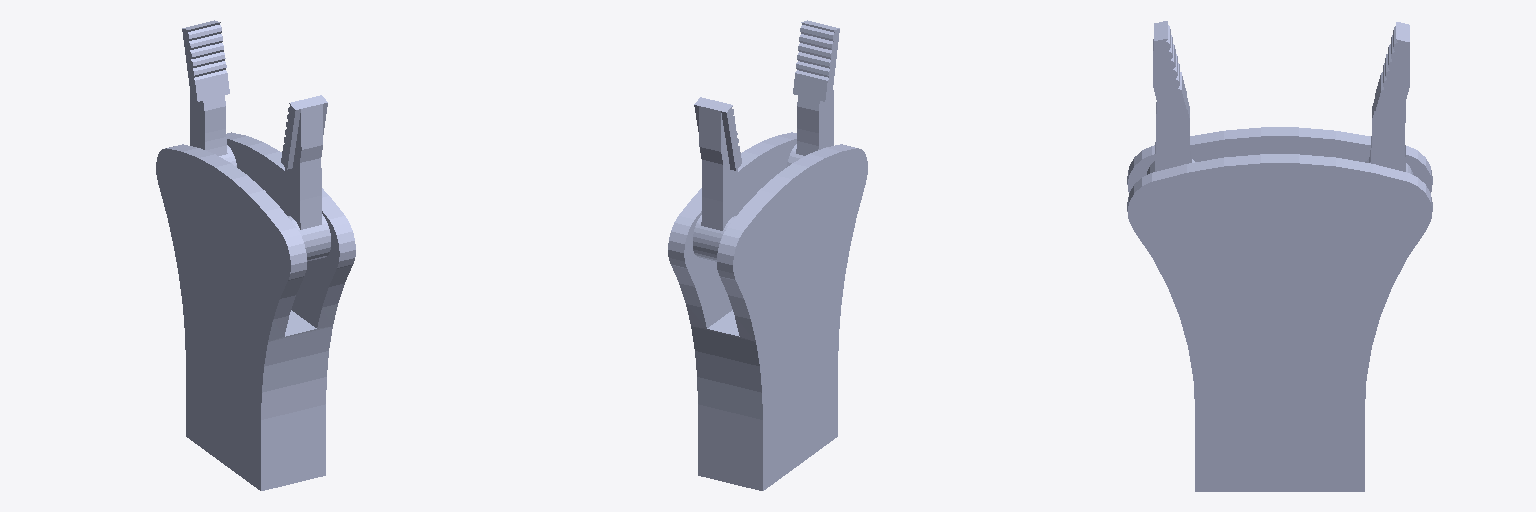
robot.urdf — jiazhua:
<?xml version="1.0" encoding="utf-8"?>
<robot name="jiazhua">

  <link name="gripper_base_link">
    <inertial>
      <origin xyz="0.0012 2.42861286636753E-17 0.0475830266682981" rpy="0 0 0" />
      <mass value="0.10588615547803" />
      <inertia
        ixx="0.000120405813410356"
        ixy="-3.77401154477319E-21"
        ixz="3.59933442415666E-21"
        iyy="9.48339427252608E-05"
        iyz="-1.11428968367808E-20"
        izz="3.86432252264647E-05" />
    </inertial>
    <visual>
      <origin xyz="0 0 0" rpy="0 0 0" />
      <geometry>
        <mesh filename="package://aubo_description/meshes/jiazhua/base_link.STL" />
      </geometry>
      <material name="jiazhua_bask_link_material">
        <color rgba="0.792156862745098 0.819607843137255 0.933333333333333 1" />
      </material>
    </visual>
    <collision>
      <origin  xyz="0 0 0" rpy="0 0 0" />
      <geometry>
        <mesh filename="package://aubo_description/meshes/jiazhua/base_link.STL" />
      </geometry>
    </collision>
  </link>
  <link  name="Link1">
    <inertial>
      <origin xyz="0.00188050176688574 -0.00120387769826689 0.0150298969423478" rpy="0 0 0" />
      <mass value="0.0054287821000724" />
      <inertia
        ixx="1.43577242109414E-06"
        ixy="9.68992808778747E-11"
        ixz="-2.28401464592307E-07"
        iyy="1.47943037043788E-06"
        iyz="4.56593730463517E-10"
        izz="1.48811775578354E-07" />
    </inertial>
    <visual>
      <origin xyz="0 0 0" rpy="0 0 0" />
      <geometry>
        <mesh filename="package://aubo_description/meshes/jiazhua/Link1.STL" />
      </geometry>
      <material name="link1_material">
        <color rgba="0.792156862745098 0.819607843137255 0.933333333333333 1" />
      </material>
    </visual>
    <collision>
      <origin xyz="0 0 0" rpy="0 0 0" />
      <geometry>
        <mesh filename="package://aubo_description/meshes/jiazhua/Link1.STL" />
      </geometry>
    </collision>
  </link>
  <!--
    The two fingers rotate about their local Y axes.  Because the finger joint
    frames have opposite yaw angles, equal positive joint commands produce a
    symmetric closing motion.
  -->
  <joint name="joint1" type="revolute">
    <origin xyz="0 -0.029 0.0892076231496363" rpy="0 -0.228448582107719 1.5707963267949" />
    <parent  link="gripper_base_link" />
    <child link="Link1" />
    <axis xyz="0 1 0" />
    <limit lower="0.0" upper="0.55" effort="20.0" velocity="1.0" />
    <dynamics damping="0.15" friction="0.05" />
  </joint>
  <link name="Link2">
    <inertial>
      <origin xyz="0.00184644766642264 0.00119612230173309 0.0148207361975697" rpy="0 0 0" />
      <mass  value="0.00542878210007239" />
      <inertia
        ixx="1.43577242109413E-06"
        ixy="9.68992808778728E-11"
        ixz="-2.28401464592308E-07"
        iyy="1.47943037043787E-06"
        iyz="4.56593730463535E-10"
        izz="1.48811775578354E-07" />
    </inertial>
    <visual>
      <origin xyz="0 0 0" rpy="0 0 0" />
      <geometry>
        <mesh filename="package://aubo_description/meshes/jiazhua/Link2.STL" />
      </geometry>
      <material name="link2_material">
        <color rgba="0.792156862745098 0.819607843137255 0.933333333333333 1" />
      </material>
    </visual>
    <collision>
      <origin xyz="0 0 0" rpy="0 0 0" />
      <geometry>
        <mesh filename="package://aubo_description/meshes/jiazhua/Link2.STL" />
      </geometry>
    </collision>
  </link>
  <joint name="joint2" type="revolute">
    <origin xyz="0 0.029 0.0892076231496363" rpy="0 -0.252554771757915 -1.5707963267949" />
    <parent link="gripper_base_link" />
    <child link="Link2" />
    <axis xyz="0 1 0" />
    <limit lower="0.0" upper="0.55" effort="20.0" velocity="1.0" />
    <dynamics damping="0.15" friction="0.05" />
  </joint>

  <joint name="gripper_joint" type="fixed">
      <origin xyz="0 0 0.12" rpy="0 0 0"/>
      <parent link="gripper_base_link"/>
      <child link="gripper_link"/>
  </joint>
  <link name="gripper_link" />

  <!-- Tool centre point between and slightly in front of the fingertips.
       Keep gripper_link for compatibility and use tcp_link as the MoveIt tip. -->
  <joint name="tcp_joint" type="fixed">
      <!-- Keep the TCP inside the useful finger contact band.  The previous
           extra 25 mm offset put the fingertips on only the top edge of a
           40 mm sorting block when the TCP was commanded to its centre. -->
      <origin xyz="0 0 0" rpy="0 0 0"/>
      <parent link="gripper_link"/>
      <child link="tcp_link"/>
  </joint>
  <link name="tcp_link" />

  <!-- Contact parameters for grasping lightweight objects in Gazebo. -->
  <gazebo reference="Link1">
    <mu1>20.0</mu1>
    <mu2>20.0</mu2>
    <kp>1000000</kp>
    <kd>100</kd>
    <minDepth>0.002</minDepth>
    <maxVel>0.01</maxVel>
  </gazebo>
  <gazebo reference="Link2">
    <mu1>20.0</mu1>
    <mu2>20.0</mu2>
    <kp>1000000</kp>
    <kd>100</kd>
    <minDepth>0.002</minDepth>
    <maxVel>0.01</maxVel>
  </gazebo>

  <!-- ros_control transmissions used by Gazebo and compatible hardware interfaces. -->
  <transmission name="joint1_trans">
    <type>transmission_interface/SimpleTransmission</type>
    <joint name="joint1">
      <hardwareInterface>hardware_interface/PositionJointInterface</hardwareInterface>
    </joint>
    <actuator name="joint1_motor">
      <hardwareInterface>hardware_interface/PositionJointInterface</hardwareInterface>
      <mechanicalReduction>1</mechanicalReduction>
    </actuator>
  </transmission>
  <transmission name="joint2_trans">
    <type>transmission_interface/SimpleTransmission</type>
    <joint name="joint2">
      <hardwareInterface>hardware_interface/PositionJointInterface</hardwareInterface>
    </joint>
    <actuator name="joint2_motor">
      <hardwareInterface>hardware_interface/PositionJointInterface</hardwareInterface>
      <mechanicalReduction>1</mechanicalReduction>
    </actuator>
  </transmission>
</robot>

--- Facts derived from the render (not from the file) ---
Views: 3 orthographic renders of the robot side by side, from view 1: azimuth 30°, elevation 25°; view 2: azimuth 150°, elevation 25°; view 3: azimuth 270°, elevation 25°.
Model jiazhua with 5 links and 4 joints (2 revolute, 2 fixed), rooted at gripper_base_link, posed every joint at zero.
Visible links, largest first — view 1: gripper_base_link, Link1, Link2; view 2: gripper_base_link, Link2, Link1; view 3: gripper_base_link, Link1, Link2.
Link boxes in pixels (left/top/right/bottom): gripper_base_link: left=156, top=132, right=355, bottom=490; Link1: left=281, top=95, right=330, bottom=261; Link2: left=182, top=20, right=236, bottom=166; gripper_base_link: left=668, top=132, right=867, bottom=490; Link2: left=693, top=97, right=741, bottom=261; Link1: left=786, top=20, right=839, bottom=167; gripper_base_link: left=1127, top=127, right=1432, bottom=491; Link1: left=1147, top=21, right=1194, bottom=174; Link2: left=1365, top=22, right=1412, bottom=174.
Size in the robot's own frame: 0.024 by 0.0863 by 0.1386 metres.
3 mesh visuals loaded from 3 distinct referenced files (3 binary STL).
